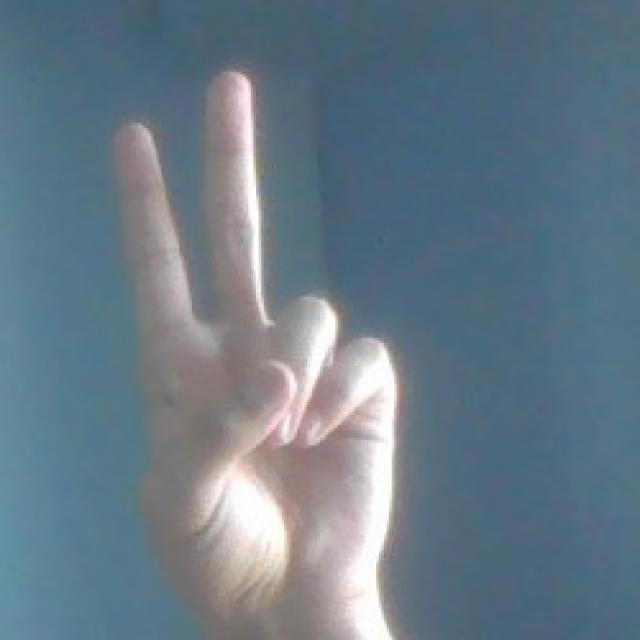Numeric-2: (117, 68, 395, 626)
